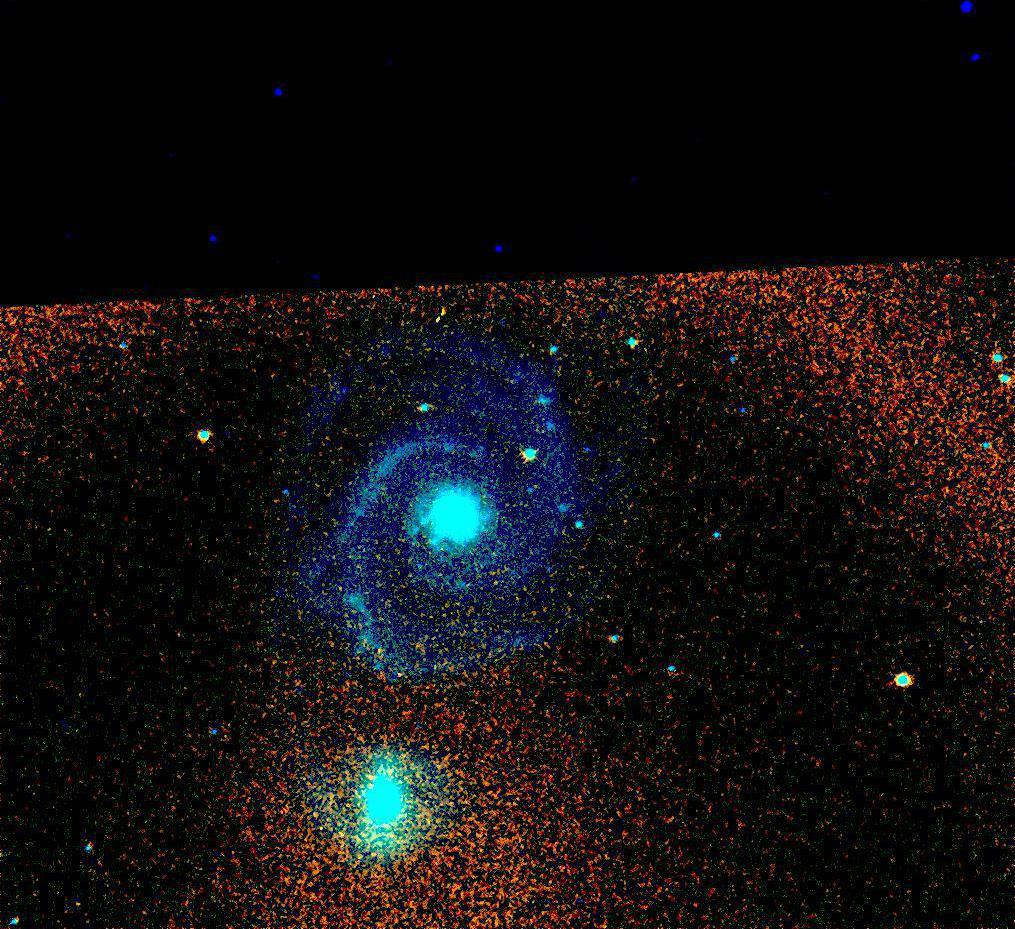star: (352, 772, 382, 802)
